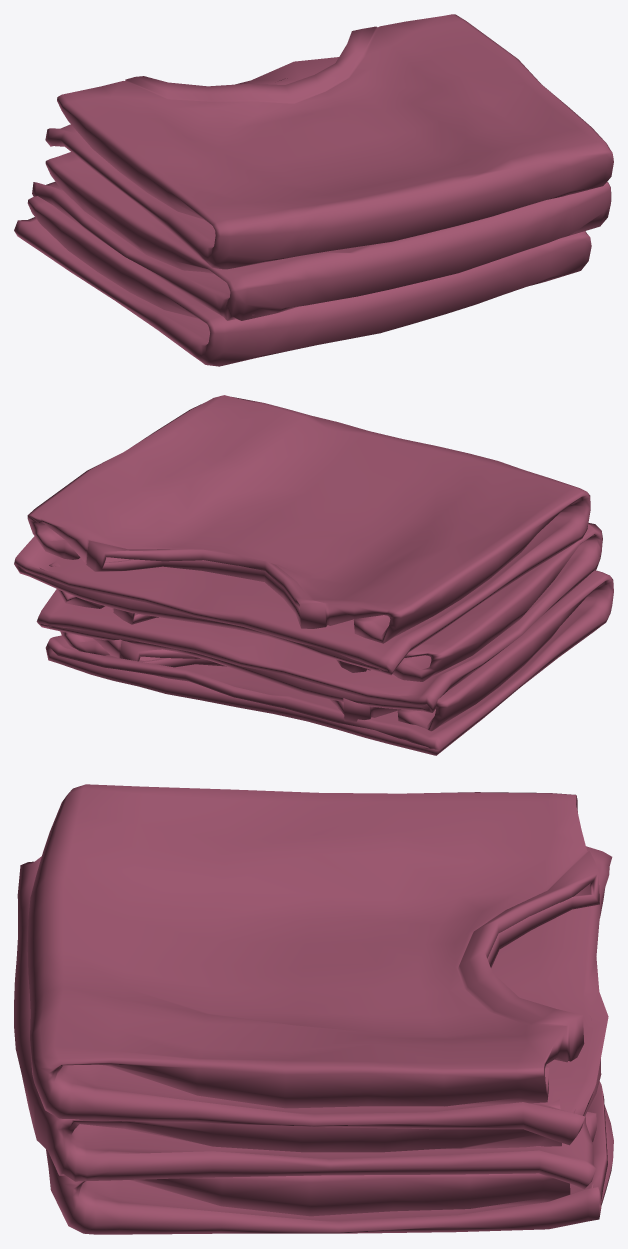
File: Folded_T_Shirt27.fbx
3 views of the same model, one above another, from view 1: azimuth 30°, elevation 25°; view 2: azimuth 150°, elevation 25°; view 3: azimuth 270°, elevation 25° (orthographic). The views are drawn at different scales.
Parts seen in each view (by area): view 1: Folded_T_Shirt27; view 2: Folded_T_Shirt27; view 3: Folded_T_Shirt27.
Boxes of the visible parts, <box> form: Folded_T_Shirt27: <box>14,14,613,366</box>; Folded_T_Shirt27: <box>14,395,613,755</box>; Folded_T_Shirt27: <box>14,784,613,1234</box>.
Size of the model in its own units: 39.71 by 11.89 by 33.24.
Materials: 1 (1 with a texture image).
